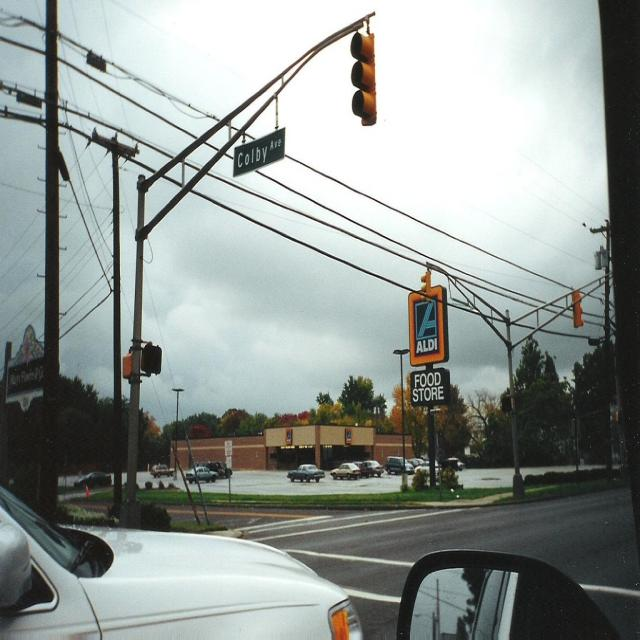aldi: (409, 286, 445, 367)
